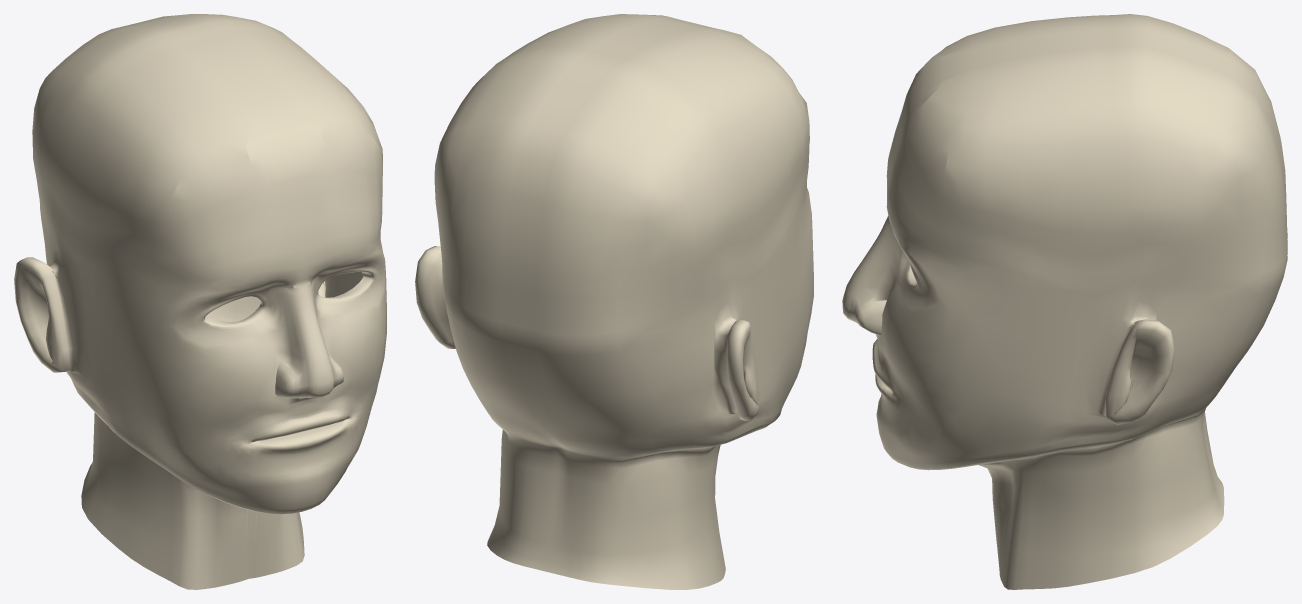
Rendered from ForMudboxHeadFBX.fbx.
The picture shows the model from 3 angles, left to right: view 1: azimuth 30°, elevation 25°; view 2: azimuth 150°, elevation 25°; view 3: azimuth 270°, elevation 25°; orthographic projection. The views are drawn at different scales.
Parts seen in each view (by area): view 1: D_Me_Head:ForMudbox; view 2: D_Me_Head:ForMudbox; view 3: D_Me_Head:ForMudbox.
Part boxes in pixels (<box>): D_Me_Head:ForMudbox: <box>14,14,386,589</box>; D_Me_Head:ForMudbox: <box>415,14,813,589</box>; D_Me_Head:ForMudbox: <box>842,14,1287,589</box>.
Bounding box in the file's own units: 1.78 × 2.83 × 2.17.
